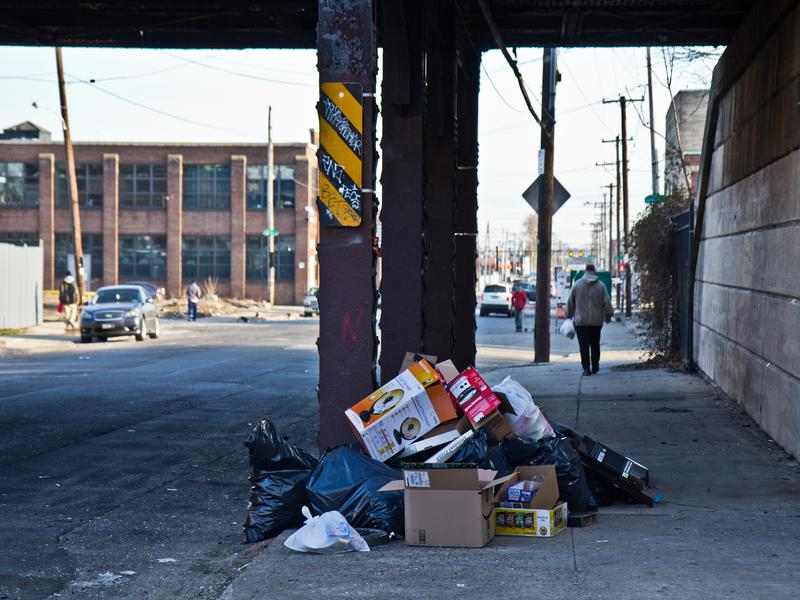cardboard: (375, 459, 511, 553), (339, 358, 457, 464), (488, 458, 577, 547), (442, 365, 501, 428)
plastic: (301, 437, 407, 539), (235, 413, 317, 544), (281, 503, 374, 561), (491, 373, 557, 443)
